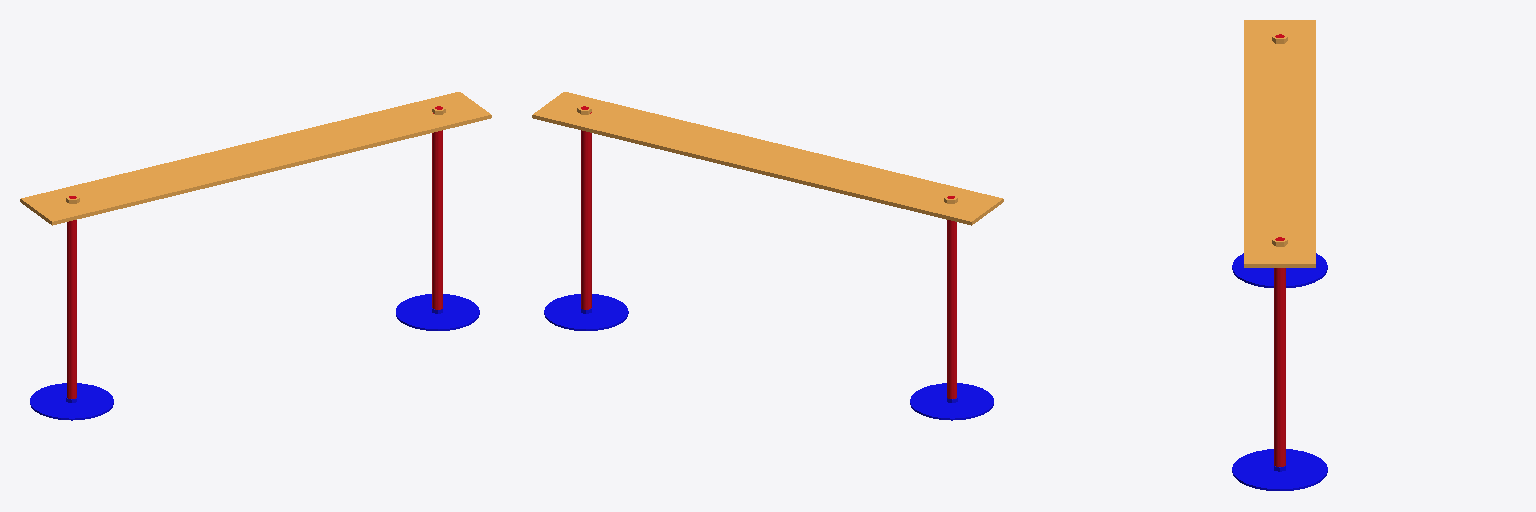
The robot description file, URDF, robot "line":
<robot name="line">
  <link name="line">
    <inertial>
      <origin rpy="0 0 0" xyz="0.6 0.1 0"/>
      <mass value="10"/>
      <inertia ixx="0" ixy="0" ixz="0" iyy="0" iyz="0" izz="0"/>
    </inertial>
    <visual>
      <origin rpy="0 0 0" xyz="0 0 0"/>
      <geometry>
        <mesh filename="package://varun_gazebo/models/line/meshes/line.dae"/>
      </geometry>
    </visual>
    <collision>
      <origin rpy="0 0 0" xyz="0 0 0"/>
      <geometry>
        <mesh filename="package://varun_gazebo/models/line/meshes/line.dae"/>
      </geometry>
    </collision>
  </link>
</robot>

--- Facts derived from the render (not from the file) ---
The picture shows the robot from 3 angles, left to right: view 1: azimuth 30°, elevation 25°; view 2: azimuth 150°, elevation 25°; view 3: azimuth 270°, elevation 25°; orthographic projection.
Robot: line — 1 links, 0 joints (none); root link line; default pose: all joints at 0.
Links seen in each view (by area): view 1: line; view 2: line; view 3: line.
Boxes of the visible links, x1,y1,x2,y2 form: line: [20, 92, 491, 420]; line: [532, 92, 1003, 420]; line: [1232, 20, 1327, 490].
Bounding box of the posed robot: 1.2 × 0.2 × 0.535 m (x, y, z).
1 mesh visuals loaded from 1 distinct referenced files (1 Collada DAE).
